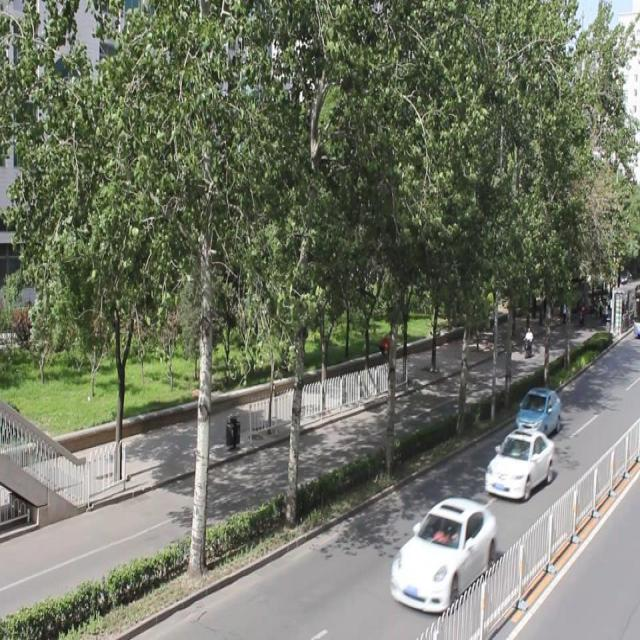car: (388, 494, 494, 611), (482, 424, 553, 499), (513, 384, 561, 436)
